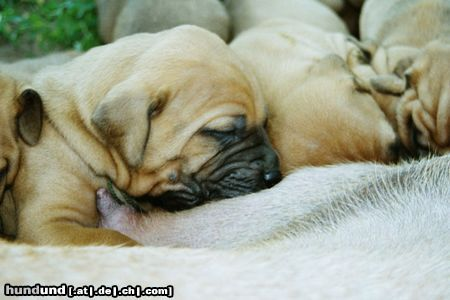tosa_inu: (0, 23, 282, 247), (229, 17, 398, 180), (346, 0, 450, 167), (0, 70, 42, 243)
